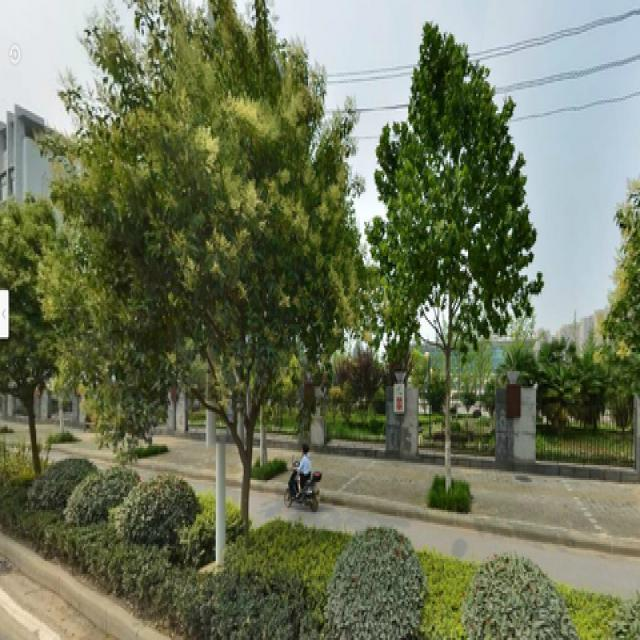meta: (377, 28, 527, 497)
